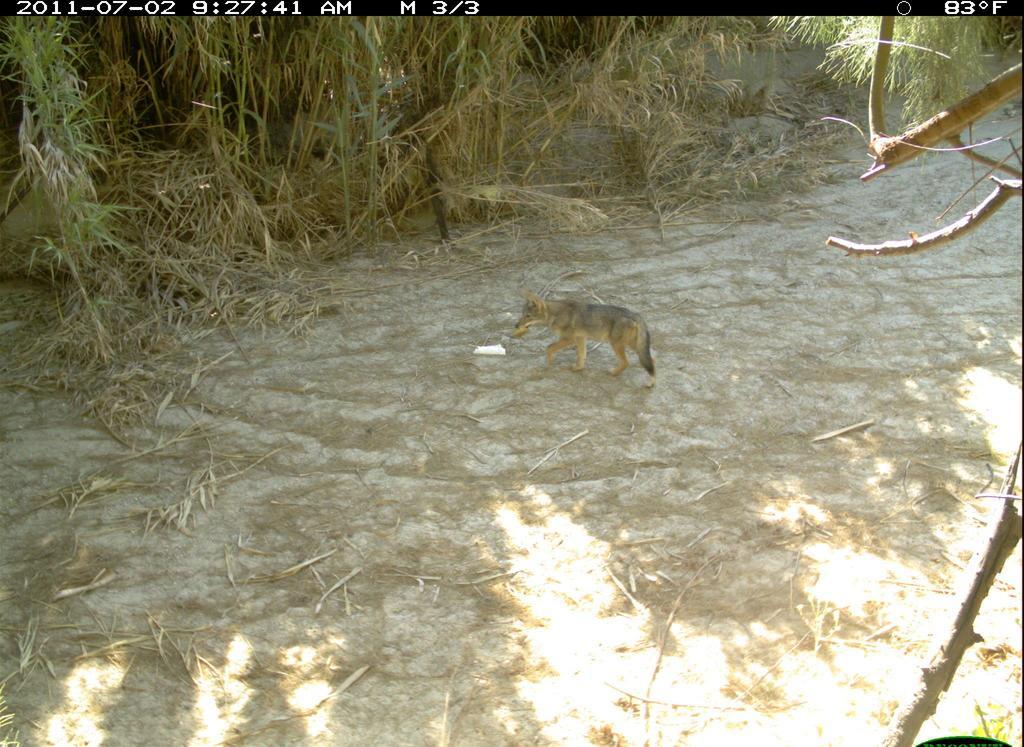coyote: (504, 281, 674, 388)
